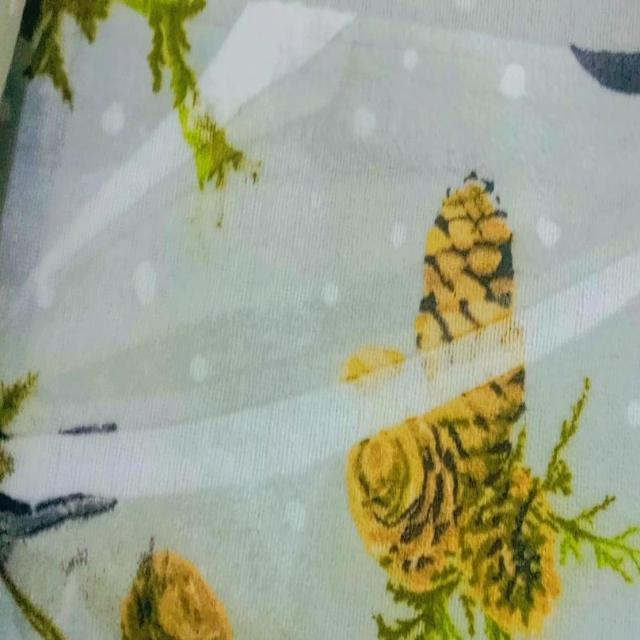selvet: (390, 226, 640, 417), (0, 376, 388, 490), (4, 140, 199, 315), (166, 5, 346, 136)
